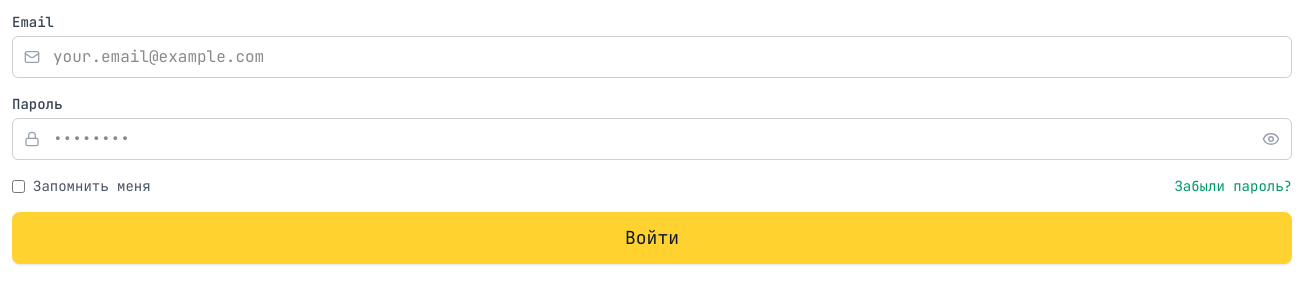
Test: LoginForm › валидирует пароль
In the field labelled "Email": (652, 57) [12, 36, 1292, 78], type "test@example.com"
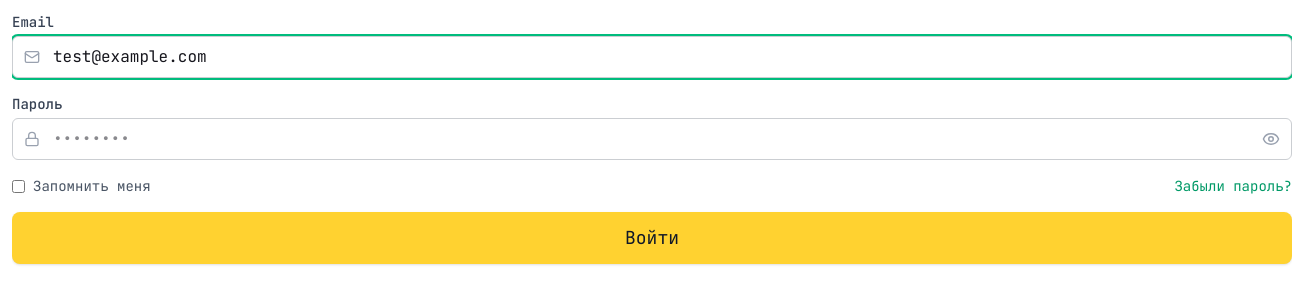
Click the button "Войти": (652, 238) [12, 212, 1292, 264]
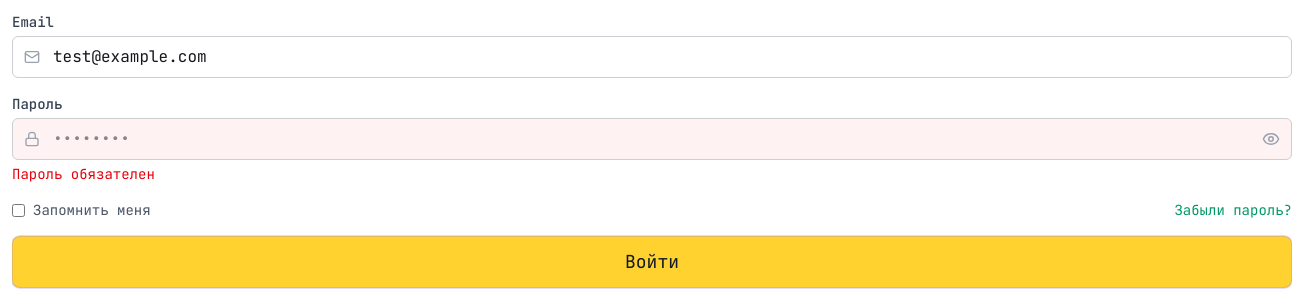
Result: the text "Пароль обязателен" is shown at [12, 165, 155, 183]
